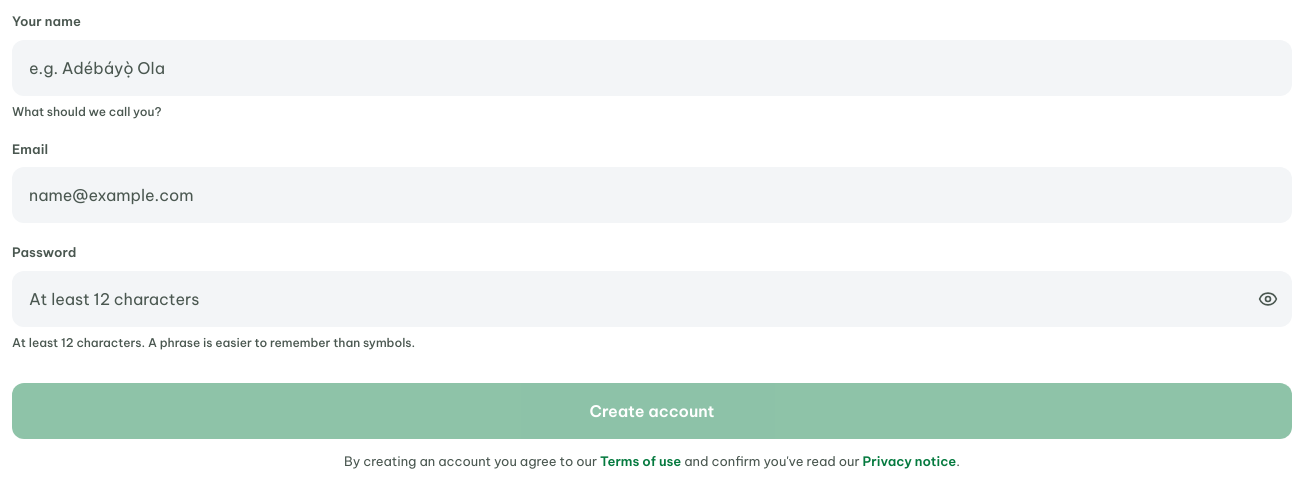
Test case: SignUpForm › shows the API's message next to the form and stays put
Type "Ada" into the field labelled "Your name" at (652, 68), box [12,40,1292,96]
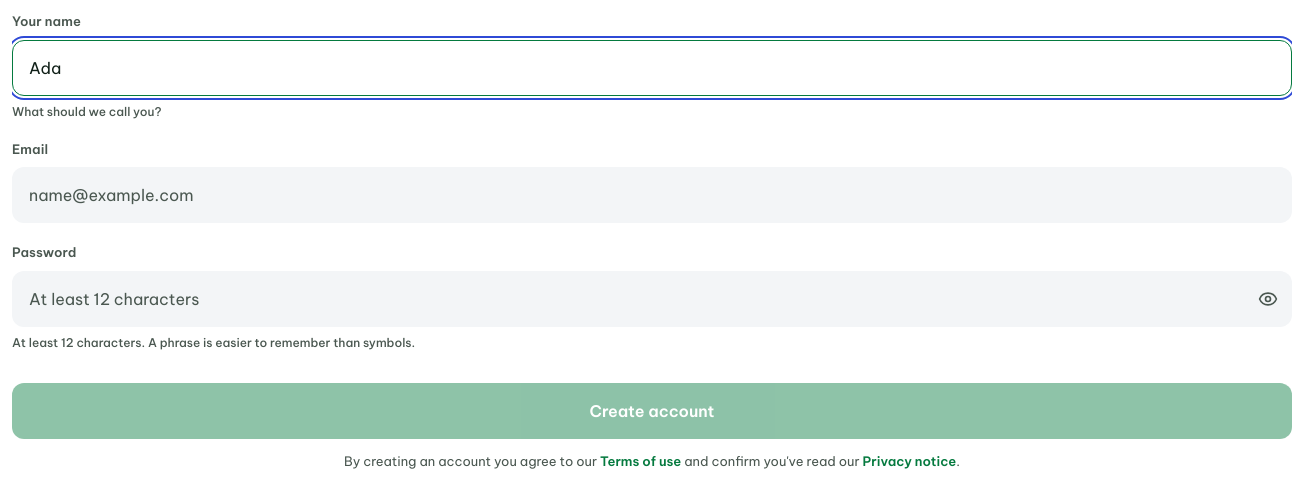
Type "ada@example.com" into the field labelled "Email" at (652, 195), box [12,167,1292,223]
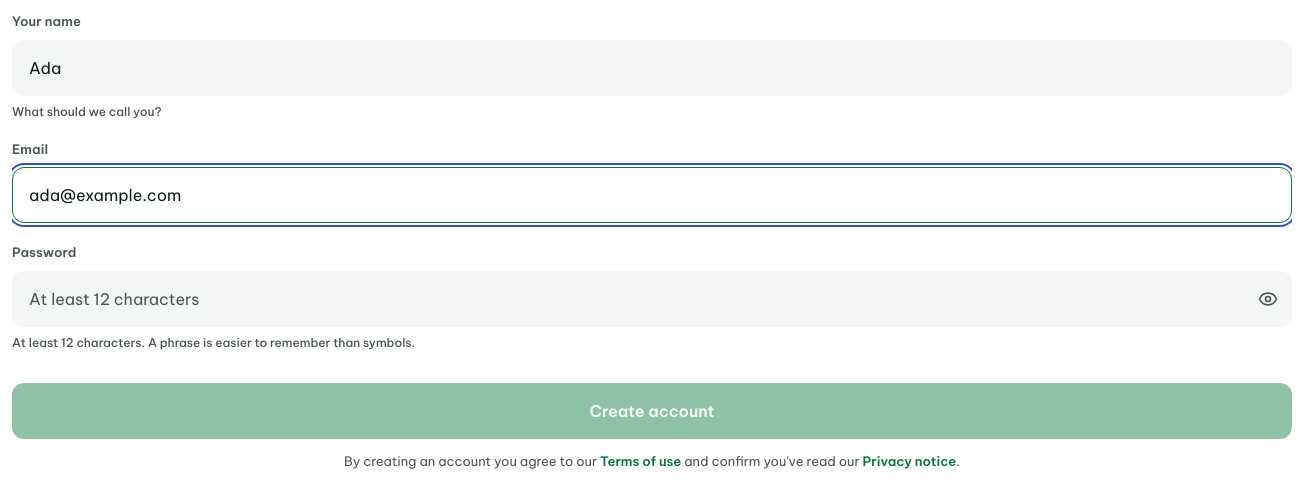
Type "password1234567" into the password field labelled "Password" at (652, 298), box [12,270,1292,326]
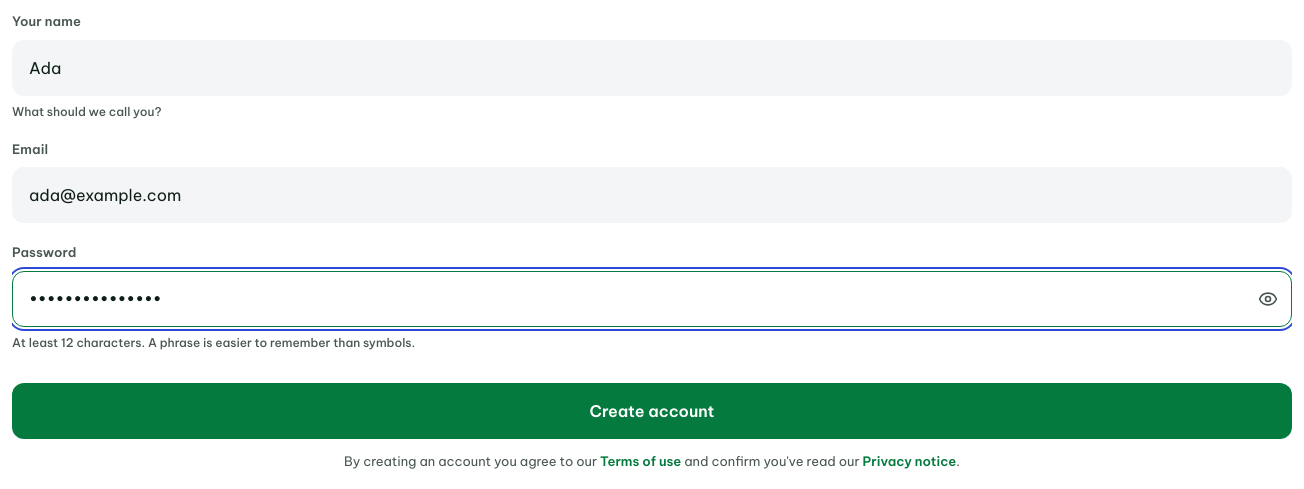
Click the button "Create account" at (652, 410), box [12,382,1292,438]
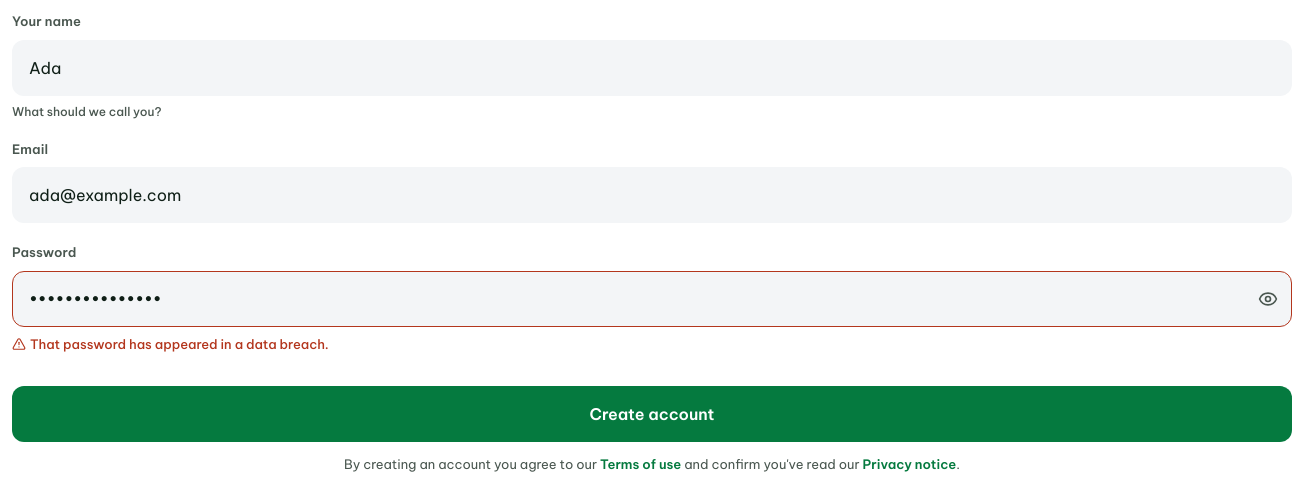
Result: the message shows "appeared in a data breach" at [30,336,329,352]
